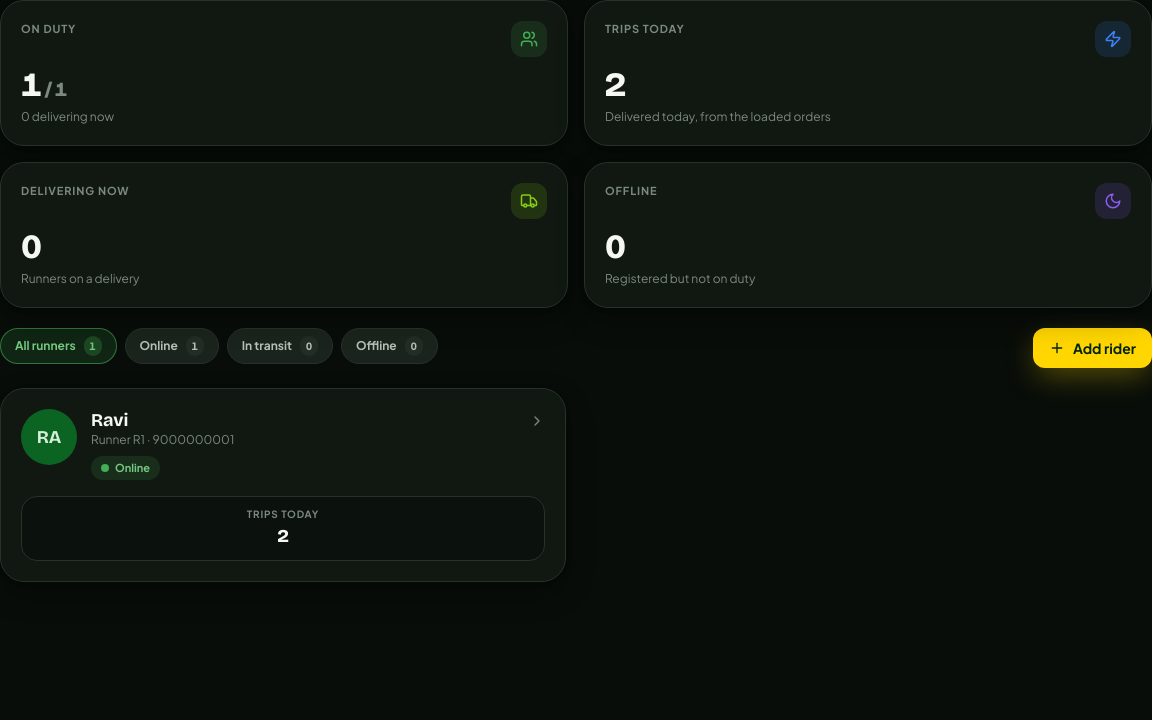
Test: WEB-02 DriverManager shows only numbers that are computed › no payouts, completion time, on-time rate or default rating; trips today come from delivered orders (India time)
The image size is (1152, 720).
Expected: the text "Payout" is not shown
Expected: the element showing "Trips today 2 Delivered today, from the loaded orders" is shown, [584, 0, 1151, 146]
Click the button with aria-label "Open details for Ravi" at (49, 437), box [0, 388, 566, 582]
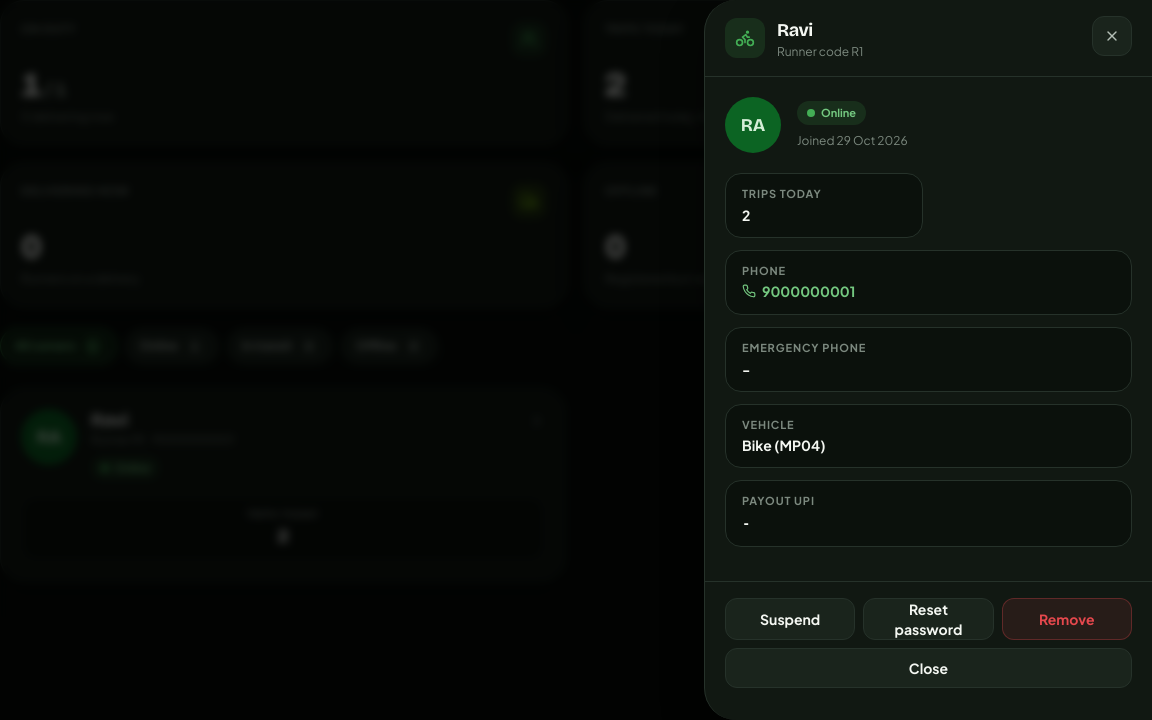
Expected: the dialog shows "Trips today", [742, 187, 822, 200]
